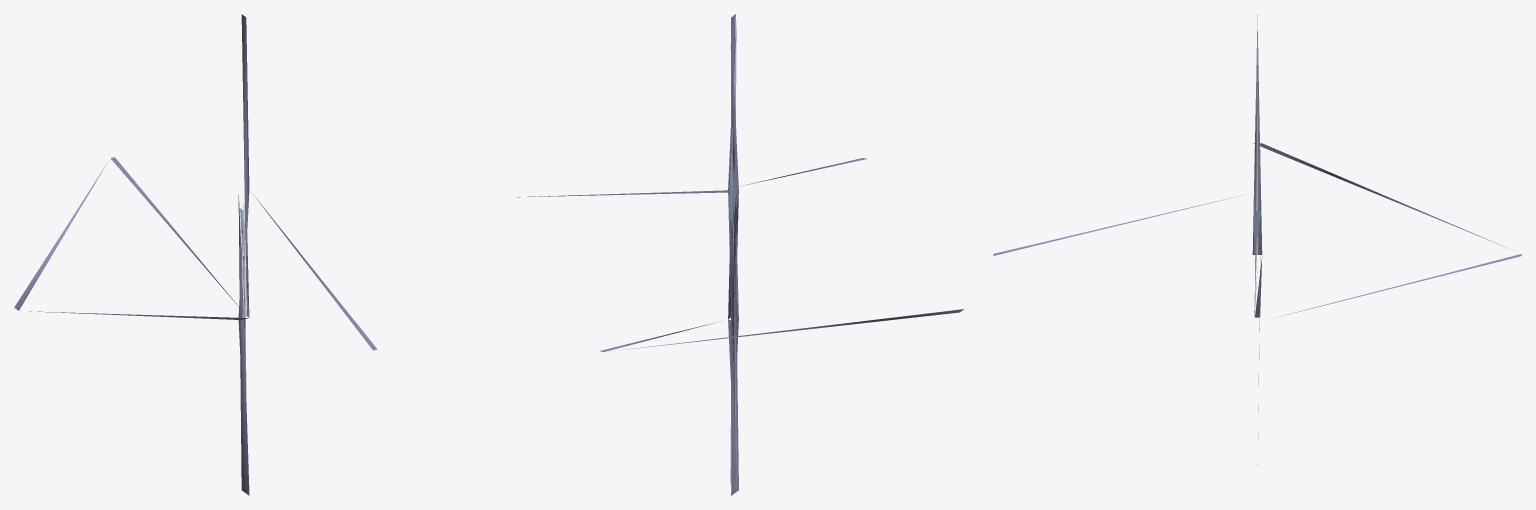
The model's file is equip_weapon_magic_shortbow.glb.
3 views of the same model, side by side, from view 1: azimuth 30°, elevation 25°; view 2: azimuth 150°, elevation 25°; view 3: azimuth 270°, elevation 25° (orthographic).
Visible parts, largest first — view 1: equip_weapon_magic_shortbow; view 2: equip_weapon_magic_shortbow; view 3: equip_weapon_magic_shortbow.
Part boxes in pixels (x1,y1,x2,y2): equip_weapon_magic_shortbow: (14, 14, 377, 495); equip_weapon_magic_shortbow: (517, 14, 963, 495); equip_weapon_magic_shortbow: (993, 14, 1521, 465).
Size of the model in its own units: 2 by 2 by 2.
